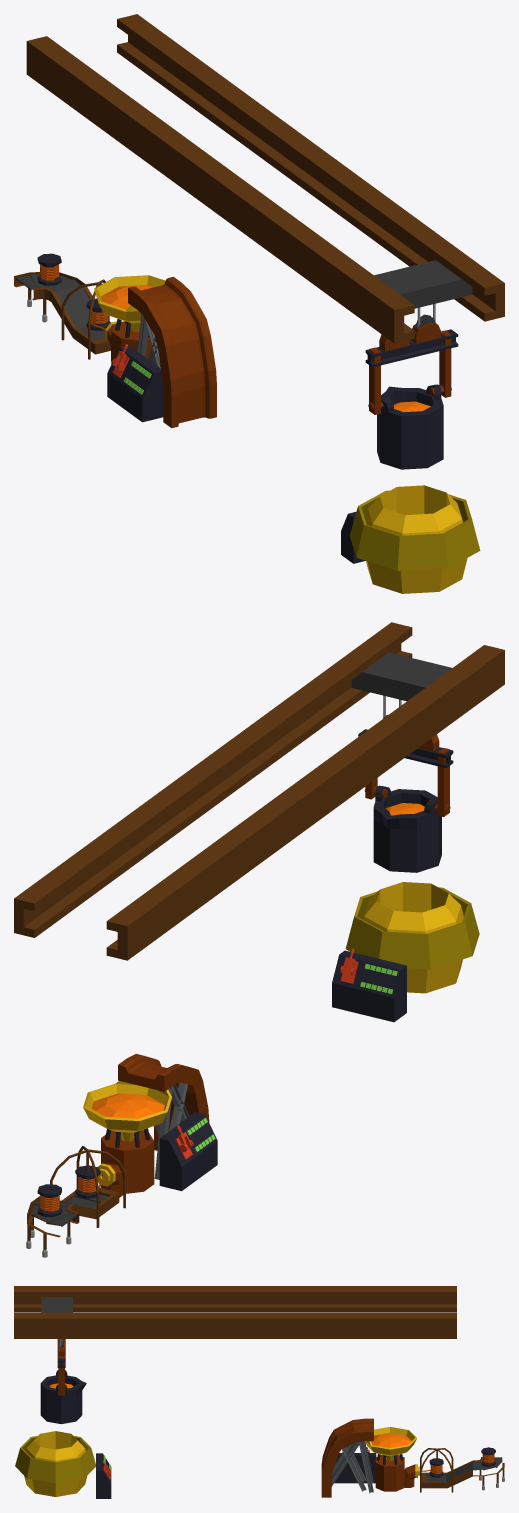
Rendered from meltingmachine.fbx.
3 views of the same model, one above another, from view 1: azimuth 30°, elevation 25°; view 2: azimuth 150°, elevation 25°; view 3: azimuth 270°, elevation 25° (orthographic). The views are drawn at different scales.
Visible parts, largest first — view 1: Cube.003, Sphere, Plane.002, Cube.001, Cube.008, Cube.004, Sphere.001, Cylinder.004, Cube.002, Plane, Cube.014, Cube (+3 smaller); view 2: Cube.003, Sphere, Cube.001, Cube.011, Sphere.001, Cube.008, Cube.004, Plane.002, Cylinder.007, Cube.007, Cylinder.004, Cube.006 (+2 smaller); view 3: Cube.003, Sphere, Cube.001, Plane.002, Cylinder.007, Sphere.001, Cube.007, Cube.008, Cube.011, Cube, Cube.004, Cube.006 (+2 smaller).
Part boxes in pixels (x1,y1,x2,y2): Cube.003: (26,14,504,343); Sphere: (350,485,480,593); Plane.002: (128,276,216,428); Cube.001: (377,384,443,469); Cube.008: (107,345,163,422); Cube.004: (374,260,472,308); Sphere.001: (94,275,165,332); Cylinder.004: (368,330,451,414); Cube.002: (365,329,458,367); Plane: (55,286,104,340); Cube.014: (14,272,85,301); Cube: (51,286,110,354); Cube.003: (14,622,504,960); Sphere: (345,882,479,993); Cube.001: (373,785,441,872); Cube.011: (332,950,406,1022); Sphere.001: (83,1081,171,1141); Cube.008: (159,1112,217,1191); Cube.004: (351,652,451,701); Plane.002: (118,1054,209,1150); Cylinder.007: (97,1130,154,1197); Cube.007: (141,1082,189,1179); Cylinder.004: (364,748,450,816); Cube.006: (50,1146,125,1227); Cube.003: (14,1286,456,1338); Sphere: (15,1431,95,1496); Cube.001: (40,1370,86,1424); Plane.002: (321,1418,373,1497); Cylinder.007: (375,1455,419,1491); Sphere.001: (365,1427,416,1461); Cube.007: (331,1441,373,1493); Cube.008: (334,1453,376,1483); Cube.011: (96,1453,111,1498); Cube: (421,1460,472,1488); Cube.004: (41,1297,72,1312); Cube.006: (420,1448,453,1492).
Bounding box in the file's own units: 516 × 1317 × 3108.
